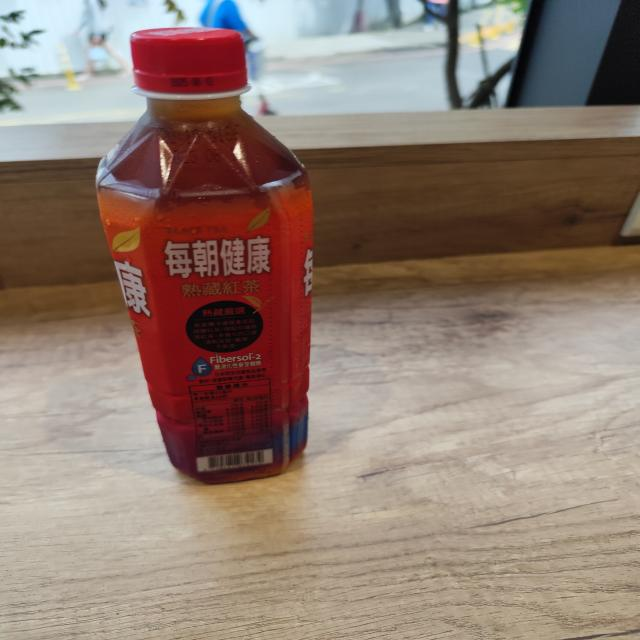MeiChou_BlackTea: (91, 18, 316, 484)
